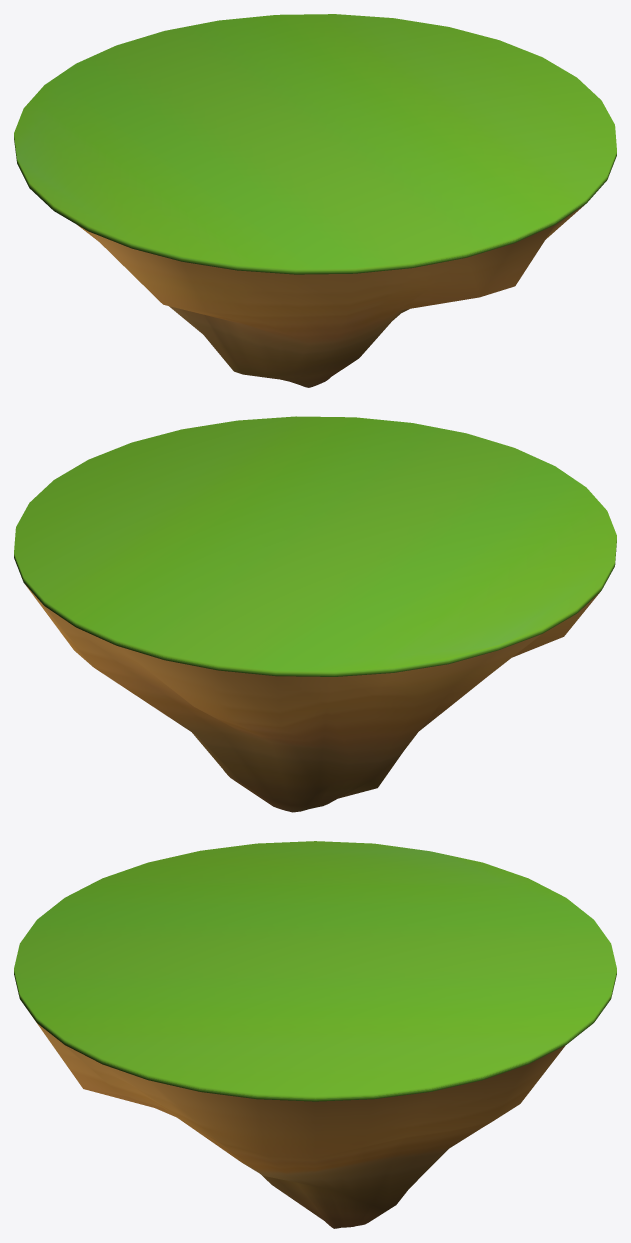
Rendered from island.glb.
The picture shows the model from 3 angles, top to bottom: view 1: azimuth 30°, elevation 25°; view 2: azimuth 150°, elevation 25°; view 3: azimuth 270°, elevation 25°; orthographic projection.
Parts seen in each view (by area): view 1: Circle.001, Circle; view 2: Circle.001, Circle; view 3: Circle.001, Circle.
Part boxes in pixels (<box>): Circle.001: <box>14,14,616,274</box>; Circle: <box>78,205,584,387</box>; Circle.001: <box>14,416,616,676</box>; Circle: <box>25,584,600,812</box>; Circle.001: <box>14,841,616,1101</box>; Circle: <box>30,1014,565,1228</box>.
Bounding box in the file's own units: 52.14 × 24.08 × 52.14.
Materials: 2 (2 with a texture image).
